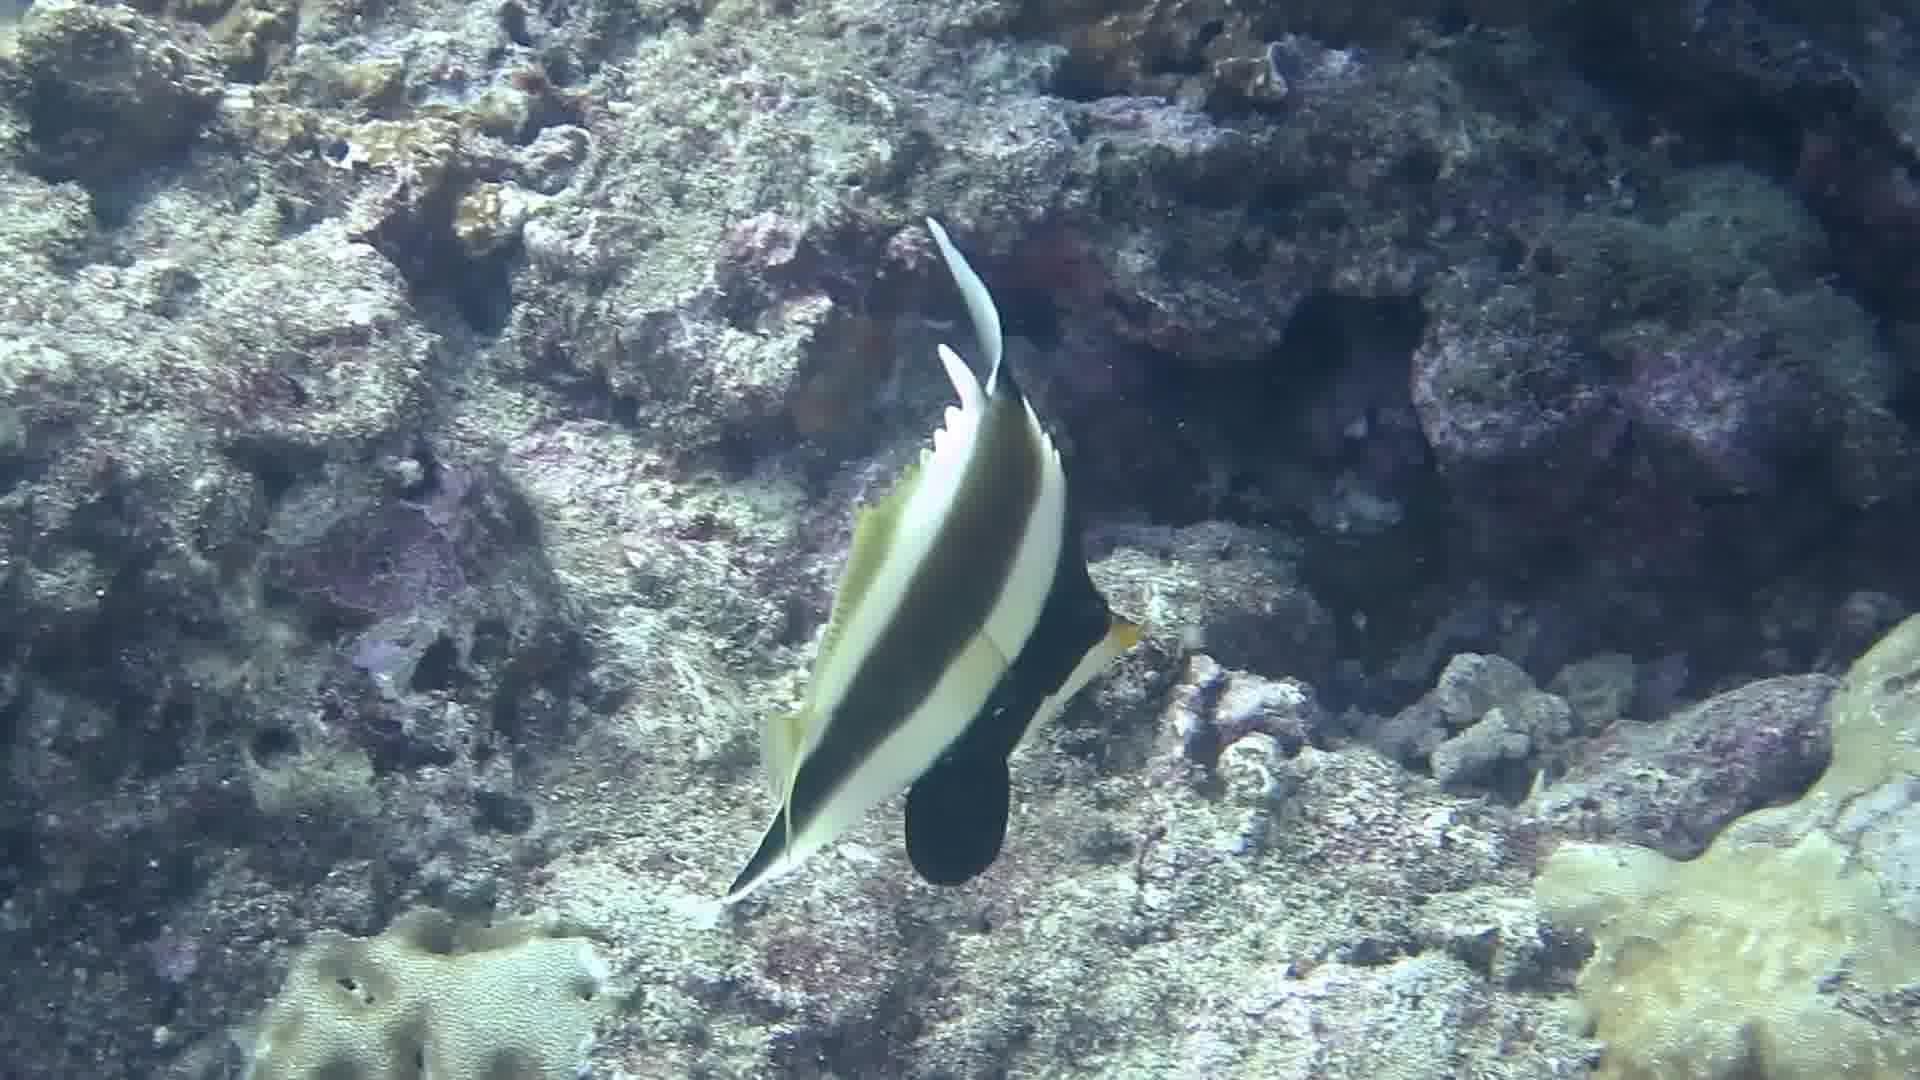Heniochus chrysostomus: (556, 204, 1358, 948)
